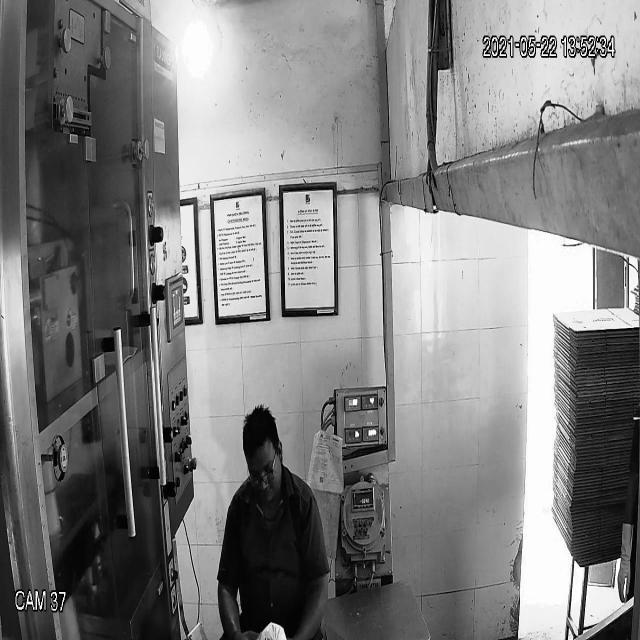glasses: (246, 454, 280, 494)
